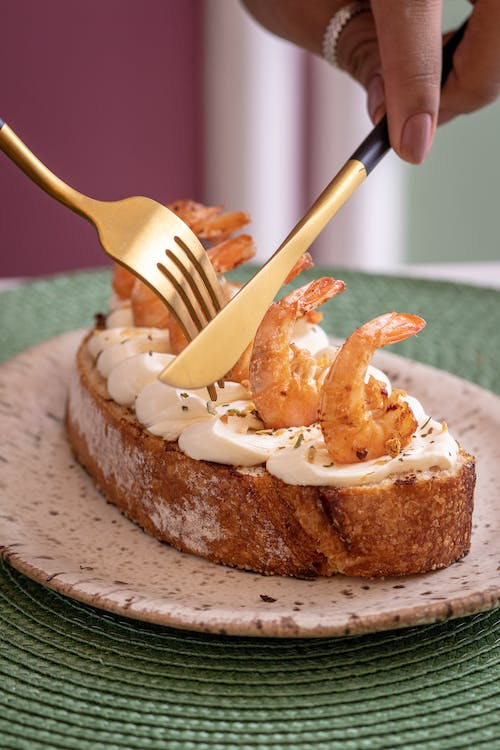knife: (155, 112, 393, 392)
